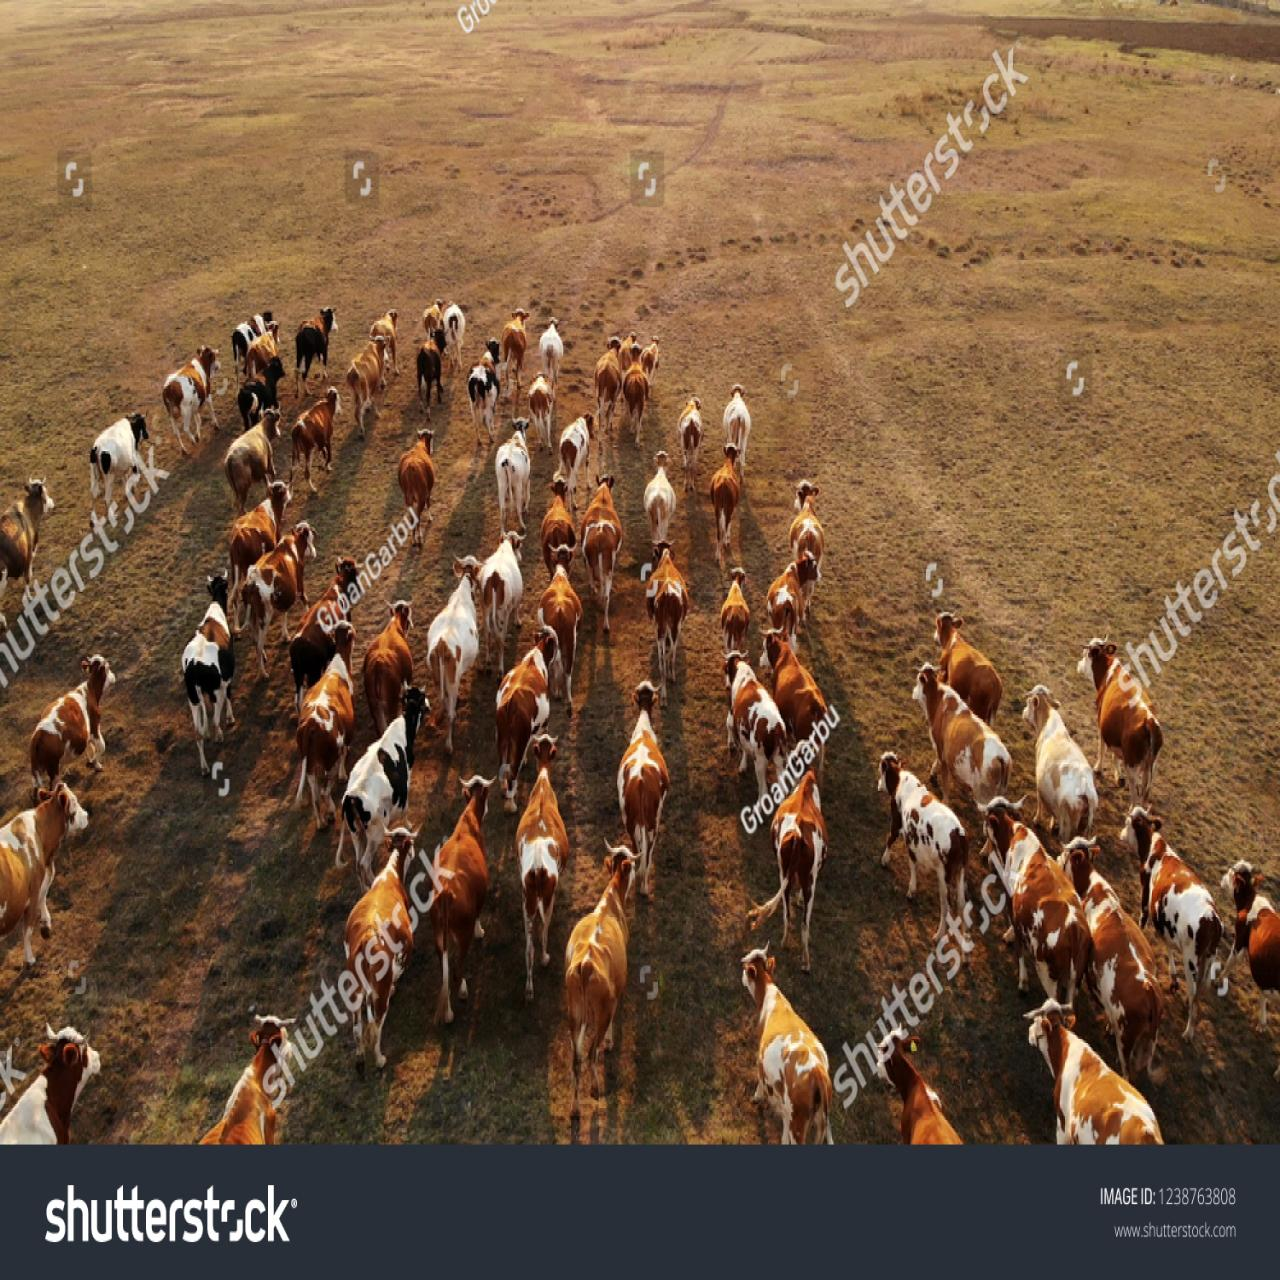cow: (975, 790, 1102, 1022), (1057, 830, 1177, 1068), (730, 940, 850, 1150), (1010, 990, 1173, 1143), (550, 843, 647, 1096), (1118, 801, 1224, 1029), (496, 712, 571, 1014), (869, 754, 982, 953), (327, 685, 438, 886), (425, 761, 501, 1047), (343, 815, 425, 1075), (0, 777, 96, 985), (907, 652, 1013, 824), (285, 621, 367, 838), (192, 968, 290, 1148), (1074, 625, 1165, 801), (18, 654, 124, 803), (410, 545, 488, 735), (756, 778, 829, 980), (1017, 667, 1098, 847), (481, 626, 561, 796), (755, 628, 840, 787), (1218, 830, 1280, 1046), (2, 1014, 103, 1146), (182, 561, 237, 799), (708, 644, 782, 819), (918, 594, 1006, 736), (619, 678, 670, 899), (248, 513, 316, 675), (295, 537, 366, 685), (535, 568, 594, 735), (639, 550, 700, 703), (581, 468, 635, 639), (90, 414, 163, 538), (359, 584, 413, 737), (229, 476, 293, 584), (0, 468, 56, 591), (161, 329, 219, 447), (225, 389, 286, 498), (396, 423, 445, 558), (490, 420, 537, 533), (788, 465, 831, 584), (669, 382, 713, 499), (543, 476, 587, 586), (714, 558, 760, 663), (641, 442, 678, 572), (239, 353, 290, 437), (708, 441, 745, 552), (346, 321, 387, 422), (469, 334, 503, 451), (297, 407, 338, 485), (722, 373, 753, 475), (293, 319, 327, 389), (539, 308, 564, 397), (416, 342, 445, 411)
